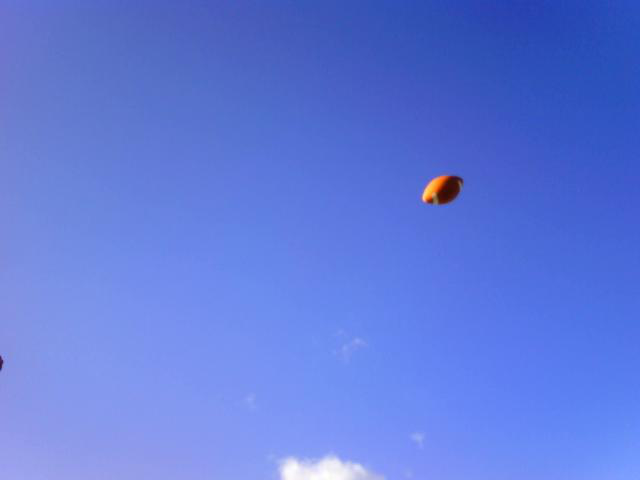football: (421, 168, 466, 210)
